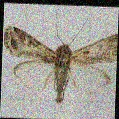Spodoptera litura: (1, 10, 116, 109)
